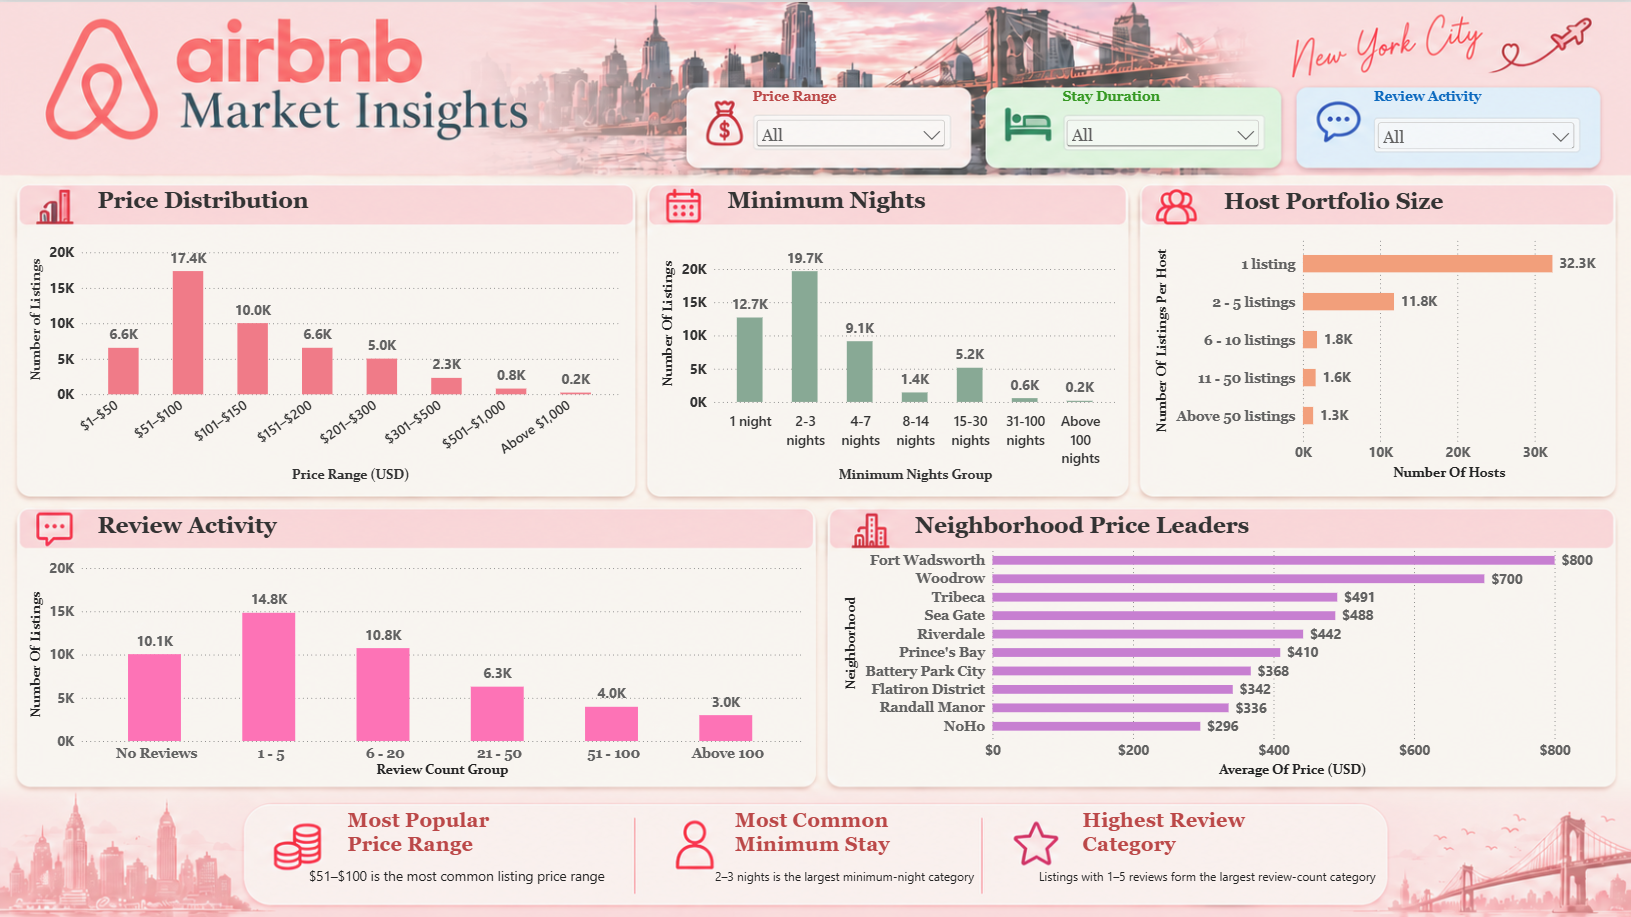

The page's visual inventory and layout, read from the dashboard file:
{"tool":"powerbi","page":{"name":"Market Insights","canvas":[1920,1080],"ordinal":1},"visuals":[{"type":"clusteredColumnChart","fields":{"Category":["airbnb_clean.Price Range"],"Y":["CountNonNull(airbnb_clean.id)"]},"box":[17.2,259.9,726.1,321],"z":0},{"type":"clusteredBarChart","fields":{"Category":["airbnb_clean.neighbourhood"],"Y":["Avg(airbnb_clean.price)"]},"box":[976.4,621,932.5,307.6],"z":1000},{"type":"clusteredColumnChart","fields":{"Category":["airbnb_clean.Minimum Nights Group"],"Y":["CountNonNull(airbnb_clean.id)"]},"box":[762.4,259.9,567.5,321],"z":2000},{"type":"clusteredColumnChart","fields":{"Category":["airbnb_clean.Review Count Group"],"Y":["CountNonNull(airbnb_clean.id)"]},"box":[17.2,640.1,942,288.5],"z":3000},{"type":"clusteredBarChart","fields":{"Category":["airbnb_clean.Host Portfolio Group"],"Y":["CountNonNull(airbnb_clean.host_id)"]},"box":[1343.3,258,565.6,321],"z":4000},{"type":"textbox","box":[1439.8,219.1,292.9,40.2],"z":5000},{"type":"textbox","box":[114.7,600,267.5,40.1],"z":6000},{"type":"textbox","box":[408.3,948.3,273.3,67.5],"z":7000},{"type":"textbox","box":[363.8,1015.5,365.4,41.1],"z":8000},{"type":"textbox","box":[864.1,948.3,263.5,56.2],"z":9000},{"type":"textbox","box":[840.8,1019.2,309.2,26.7],"z":10000},{"type":"textbox","box":[1274.2,948.3,285,61.7],"z":11000},{"type":"textbox","box":[1222.5,1019.2,403.3,28.3],"z":12000},{"type":"textbox","box":[1075.8,600.5,440.7,38.9],"z":13000},{"type":"textbox","box":[855.4,218.2,358.6,41],"z":14000},{"type":"textbox","box":[114.5,218.2,388.8,38.9],"z":15000},{"type":"textbox","box":[885.5,101.8,102.7,21.8],"z":16000},{"type":"textbox","box":[1250,101.8,125.5,25.5],"z":16500},{"type":"textbox","box":[1616.4,101.8,133.6,23.6],"z":16750},{"type":"slicer","title":"Price Range","fields":{"Values":["airbnb_clean.Price Range"]},"box":[885.5,133.6,231.7,41.3],"z":17000},{"type":"slicer","fields":{"Values":["airbnb_clean.Minimum Nights Group"]},"box":[1250,133.6,236.4,40.9],"z":20000},{"type":"slicer","fields":{"Values":["airbnb_clean.Review Count Group"]},"box":[1616.4,136.4,240.9,35.5],"z":21000}]}

Visuals, with their boxes in screenshot pixels (x1, y1, x2, y2), scaled from the page's 1920x1080 canvas onto the 1631x917 screenshot:
clusteredColumnChart - airbnb_clean.Price Range x CountNonNull(airbnb_clean.id): 15,221,631,493
clusteredBarChart - airbnb_clean.neighbourhood x Avg(airbnb_clean.price): 829,527,1622,788
clusteredColumnChart - airbnb_clean.Minimum Nights Group x CountNonNull(airbnb_clean.id): 648,221,1130,493
clusteredColumnChart - airbnb_clean.Review Count Group x CountNonNull(airbnb_clean.id): 15,543,815,788
clusteredBarChart - airbnb_clean.Host Portfolio Group x CountNonNull(airbnb_clean.host_id): 1141,219,1622,492
textbox: 1223,186,1472,220
textbox: 97,509,325,543
textbox: 347,805,579,862
textbox: 309,862,619,897
textbox: 734,805,958,853
textbox: 714,865,977,888
textbox: 1082,805,1325,858
textbox: 1038,865,1381,889
textbox: 914,510,1288,543
textbox: 727,185,1031,220
textbox: 97,185,428,218
textbox: 752,86,839,105
textbox: 1062,86,1168,108
textbox: 1373,86,1487,106
"Price Range" slicer: 752,113,949,149
slicer - airbnb_clean.Minimum Nights Group: 1062,113,1263,148
slicer - airbnb_clean.Review Count Group: 1373,116,1578,146
